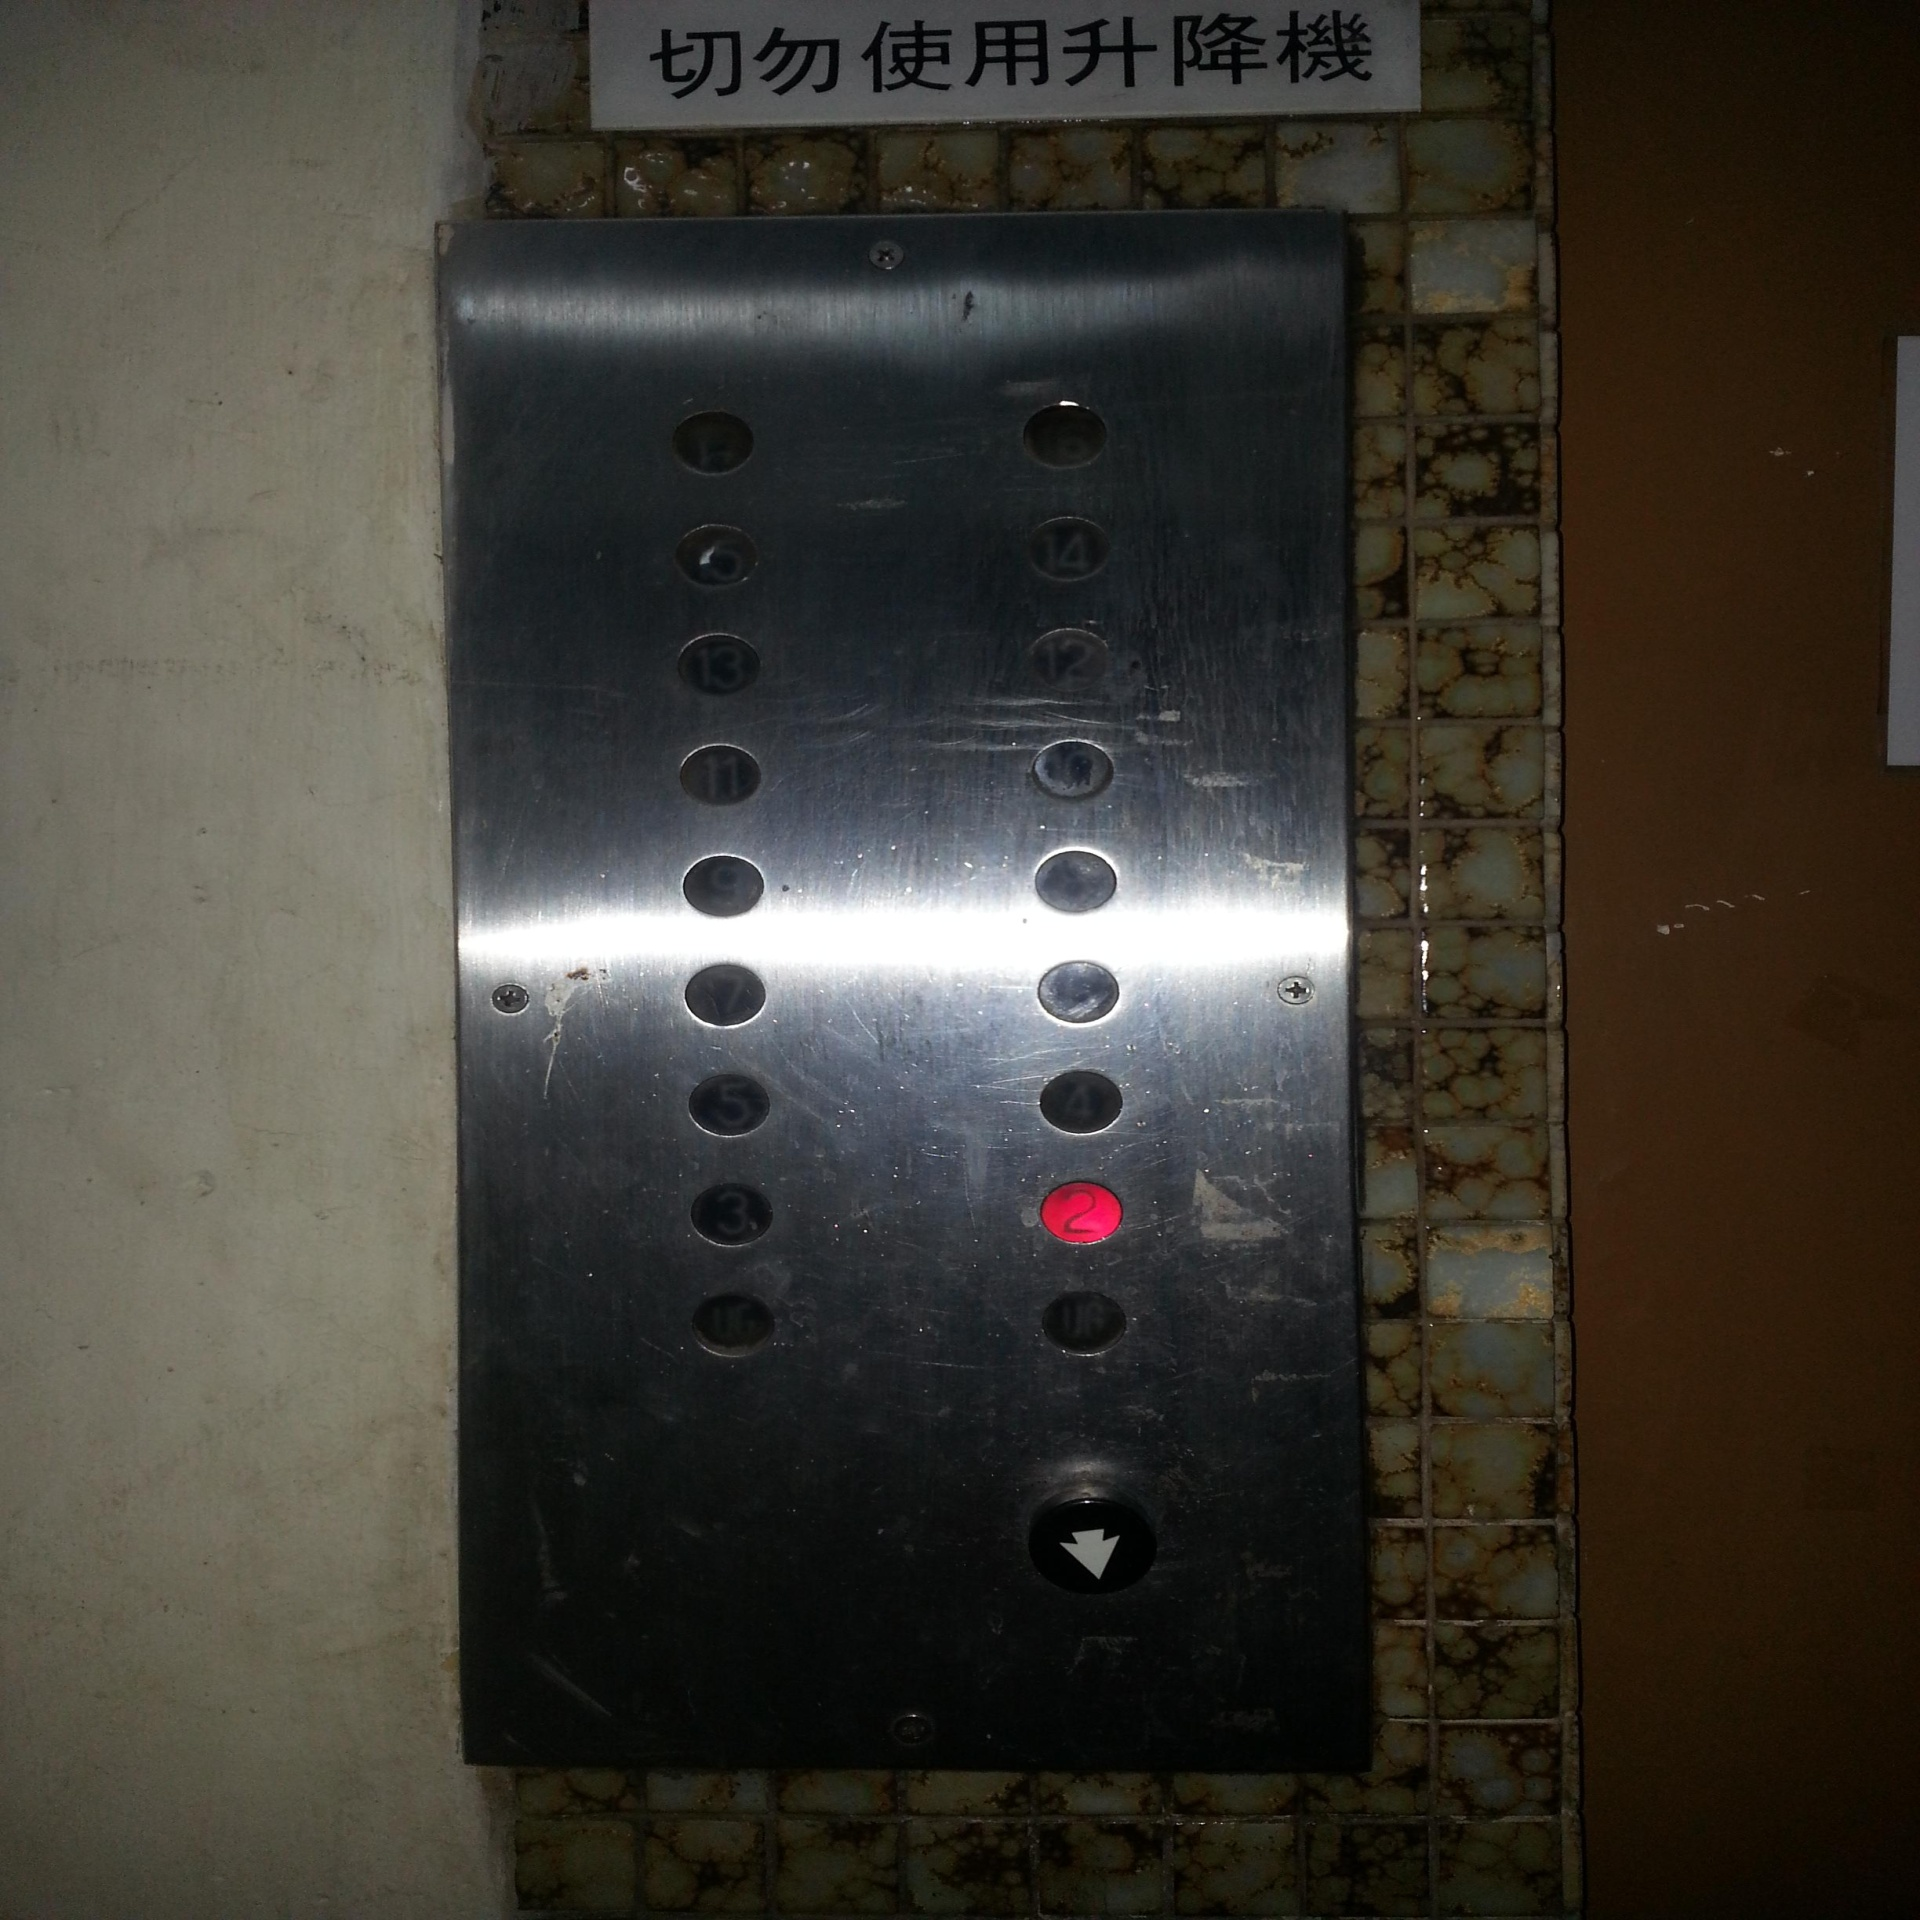11: (673, 738, 765, 812)
12: (1022, 624, 1116, 695)
13: (670, 629, 765, 705)
14: (1020, 512, 1115, 582)
16: (1016, 397, 1115, 473)
2: (1036, 1175, 1125, 1248)
3: (684, 1178, 777, 1250)
4: (1036, 1064, 1127, 1138)
5: (686, 1067, 775, 1139)
7: (680, 958, 770, 1029)
9: (679, 849, 768, 923)
UG: (1036, 1284, 1131, 1359), (686, 1287, 777, 1361)
blur: (1030, 842, 1122, 918), (1034, 955, 1124, 1029), (668, 406, 760, 478), (1027, 735, 1118, 805), (672, 520, 761, 591)
down: (1020, 1484, 1160, 1598)
